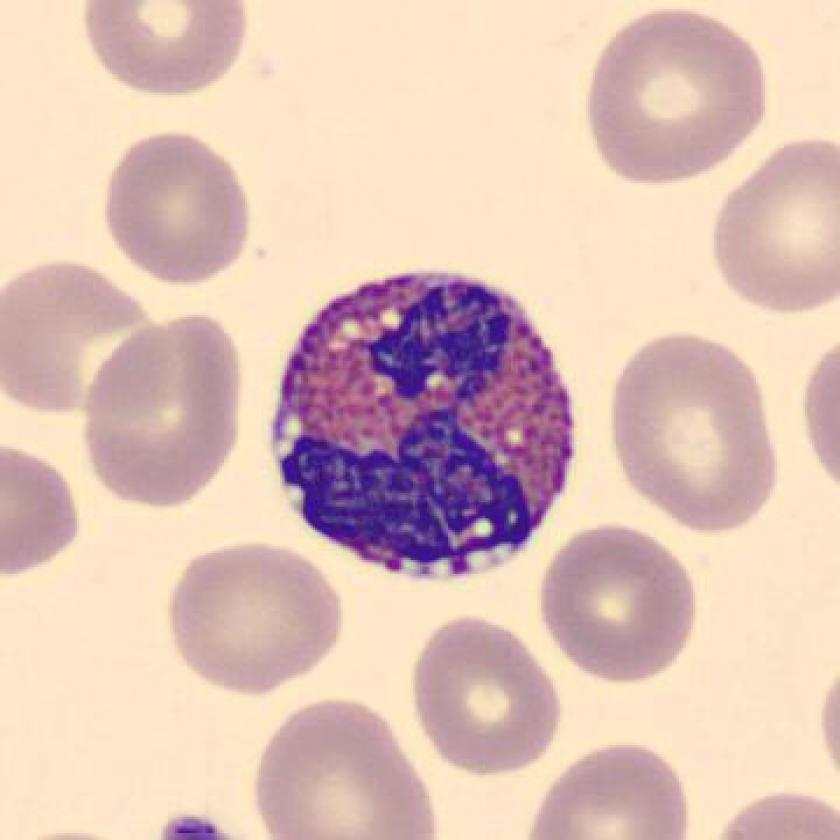eosinophil: (258, 258, 589, 593)
